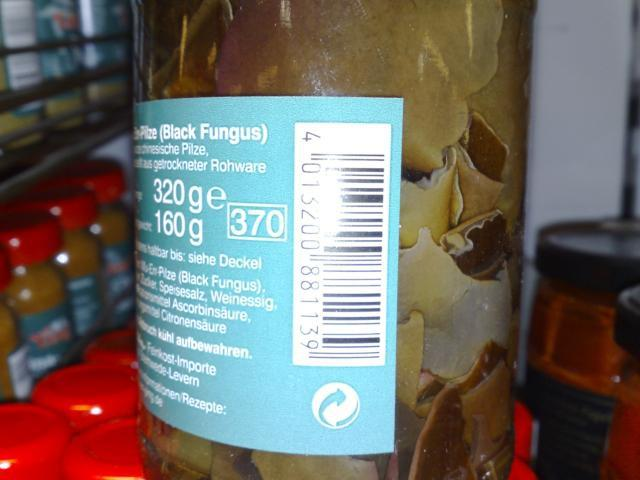Barcode: (295, 122, 390, 368)
